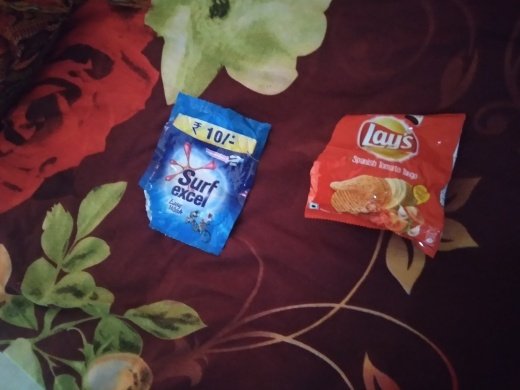lays: (305, 100, 473, 263)
surf: (135, 78, 270, 264)
